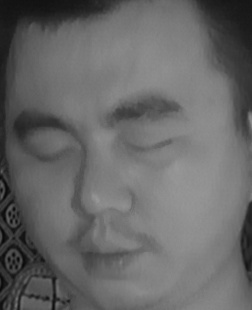blink: (124, 127, 176, 163), (29, 134, 76, 171)
mouth: (74, 225, 158, 279)
